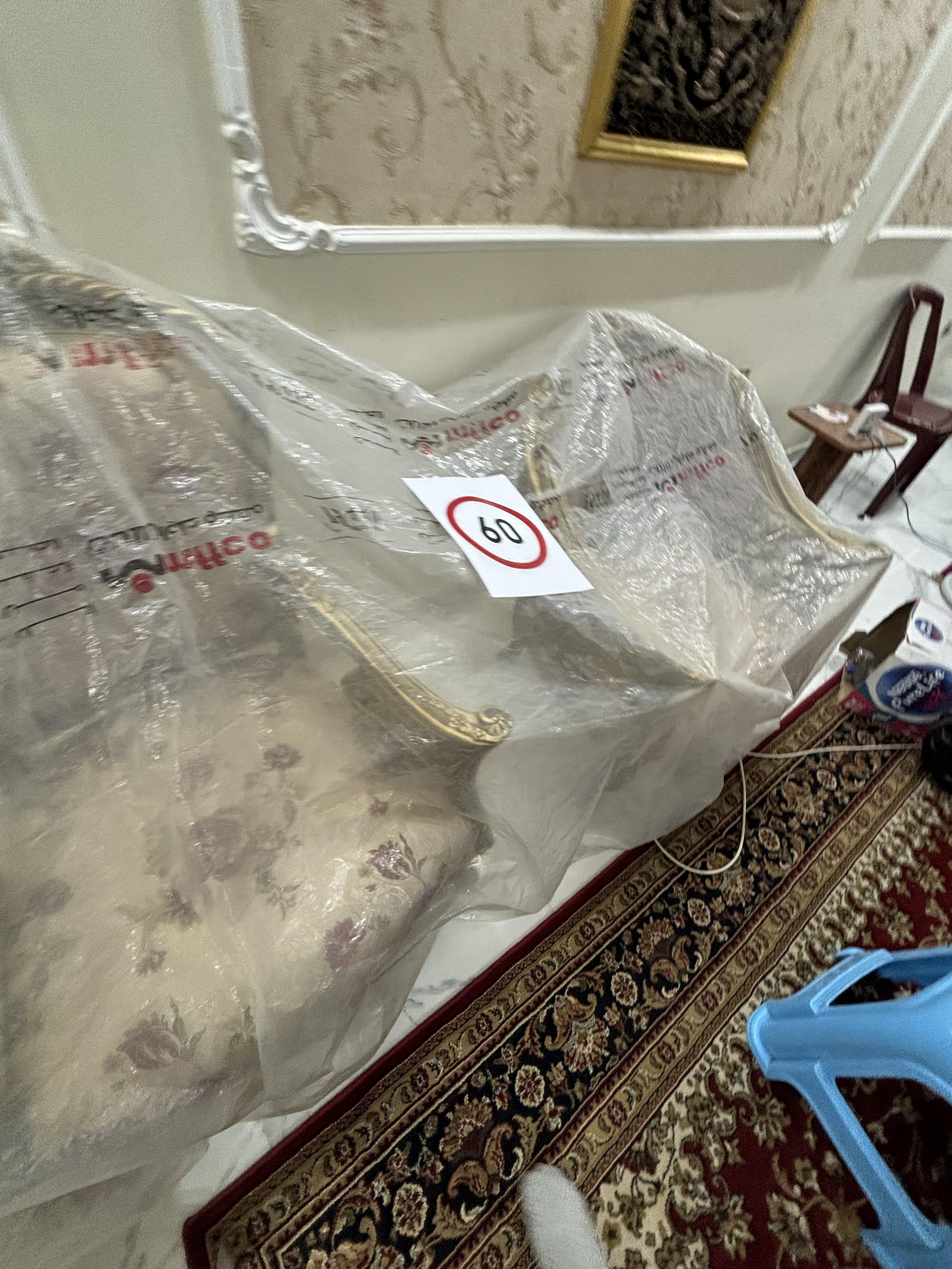60-Speed: (441, 488, 553, 578)
